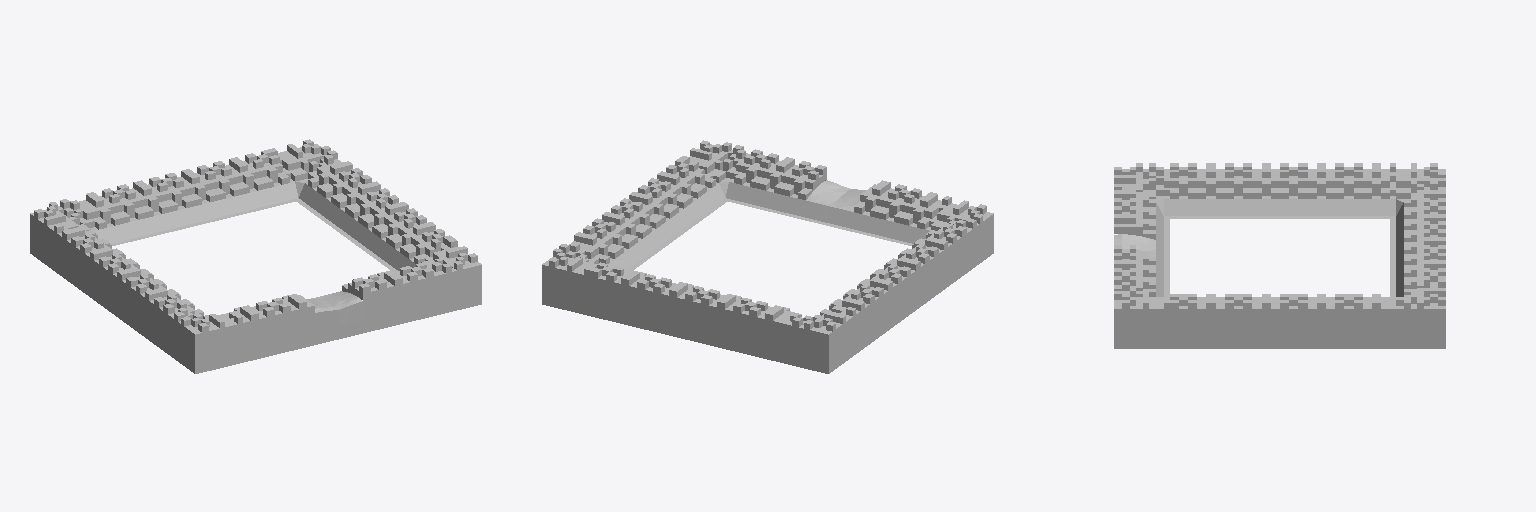
File: mHillSide.obj
3 renders of one model, left to right at view 1: azimuth 30°, elevation 25°; view 2: azimuth 150°, elevation 25°; view 3: azimuth 270°, elevation 25°, orthographic.
Parts seen in each view (by area): view 1: mHillSide polySurface42; view 2: mHillSide polySurface42; view 3: mHillSide polySurface42.
Boxes of the visible parts, x1,y1,x2,y2 form: mHillSide polySurface42: [30, 139, 481, 373]; mHillSide polySurface42: [542, 140, 993, 373]; mHillSide polySurface42: [1114, 163, 1445, 348].
Size of the model in its own units: 108 by 16.44 by 108.